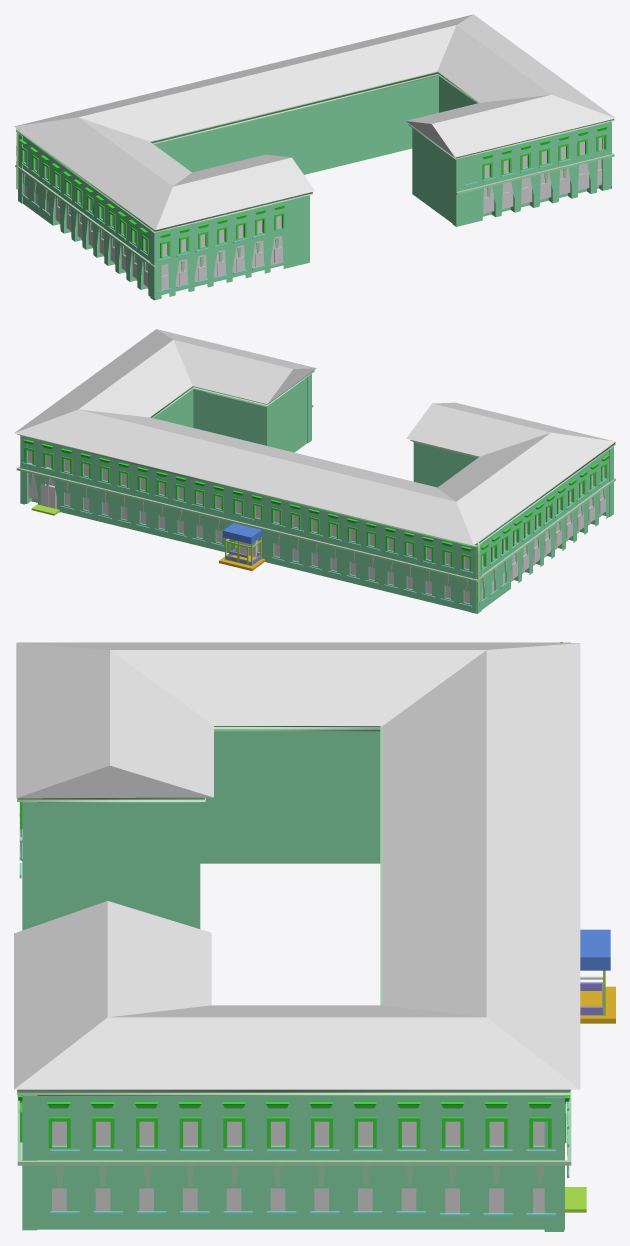
File: hospital.glb
The picture shows the model from 3 angles, top to bottom: view 1: azimuth 30°, elevation 25°; view 2: azimuth 150°, elevation 25°; view 3: azimuth 270°, elevation 25°; orthographic projection. The views are drawn at different scales.
Visible parts, largest first — view 1: gospit; view 2: gospit; view 3: gospit.
Part boxes in pixels (<box>): gospit: <box>14,14,615,300</box>; gospit: <box>14,329,615,613</box>; gospit: <box>14,642,615,1231</box>.
Size of the model in its own units: 271 by 50.01 by 154.
